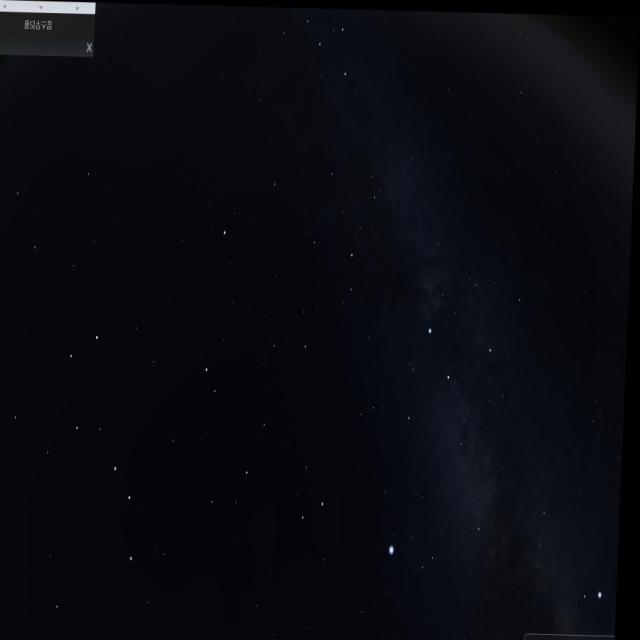cygnus: (393, 320, 503, 522)
lyra: (392, 512, 450, 572)
ursa_major: (55, 330, 153, 570)
